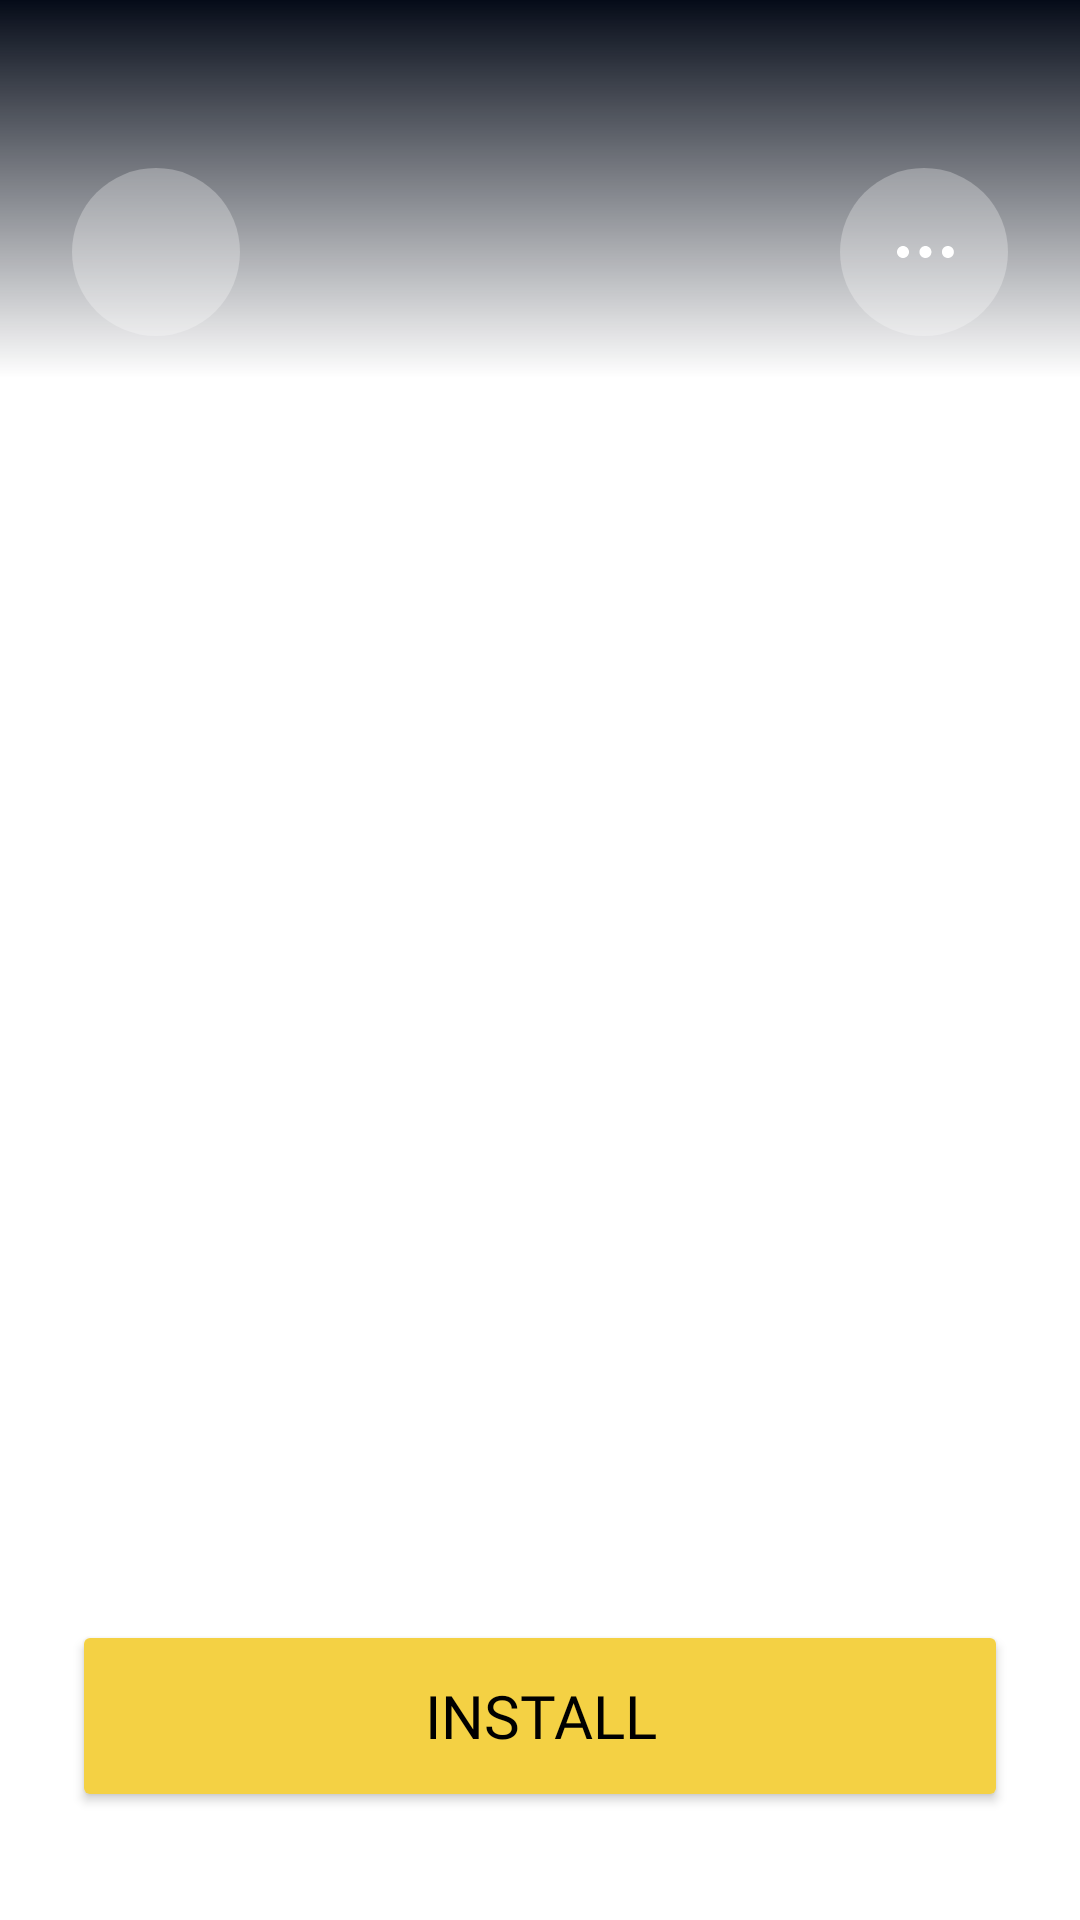

Screen size 1080px x 1920px. Icon name, then its center in pixels as (x,y):
Menu: (924,252)
